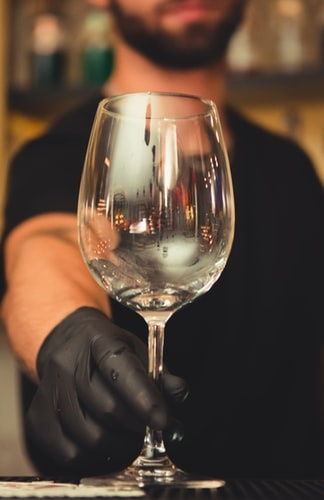whiskey: (72, 97, 232, 465)
